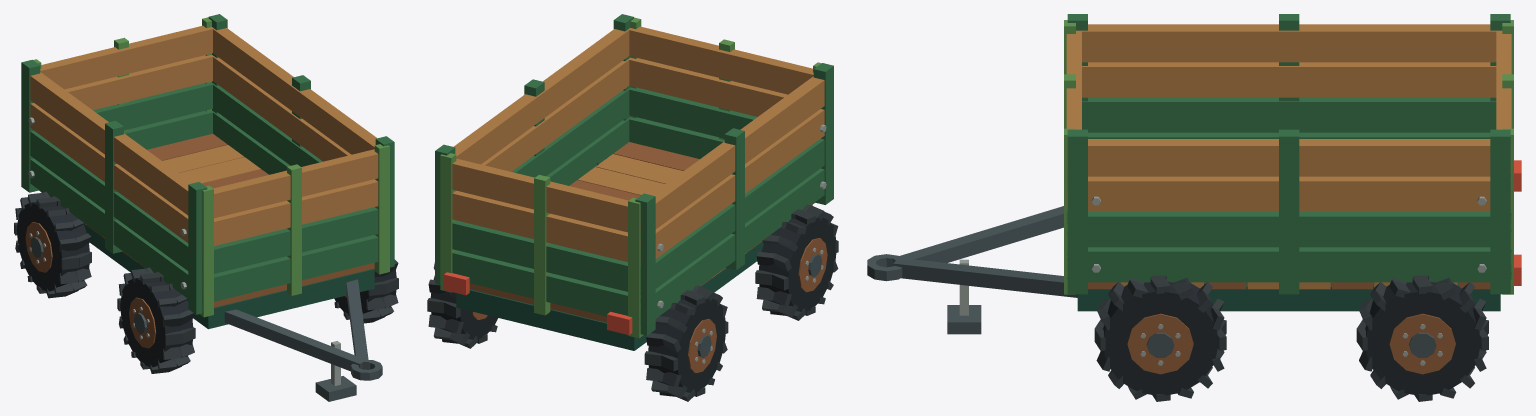
File: farm_trailer.glb
3 renders of one model, left to right at view 1: azimuth 30°, elevation 25°; view 2: azimuth 150°, elevation 25°; view 3: azimuth 270°, elevation 25°, orthographic. The views are drawn at different scales.
Visible parts, largest first — view 1: body__wood2, body__green, body__green2, body__metal, body__green_dark, wheel_-1_0.79__rubber, wheel_-1_-0.76__rubber, wheel_-1_0.79__tread, wheel_-1_-0.76__tread, body__wood, wheel_1_-0.76__tread, wheel_-1_0.79__wood (+3 smaller); view 2: body__wood2, body__green, body__green2, body__green_dark, wheel_-1_-0.76__rubber, wheel_-1_0.79__rubber, wheel_-1_-0.76__tread, wheel_-1_0.79__tread, body__wood, wheel_1_0.79__tread, wheel_1_0.79__rubber, body__red2 (+2 smaller); view 3: body__wood2, body__green, body__metal, wheel_1_0.79__rubber, wheel_1_-0.76__rubber, body__green_dark, wheel_1_0.79__tread, wheel_1_-0.76__tread, wheel_1_-0.76__wood, wheel_1_0.79__wood, body__green2, body__wood (+3 smaller).
Boxes of the visible parts, <box> form: body__wood2: <box>30,25,378,261</box>; body__green: <box>21,14,394,314</box>; body__green2: <box>33,17,389,317</box>; body__metal: <box>224,279,382,401</box>; body__green_dark: <box>41,192,374,329</box>; wheel_-1_0.79__rubber: <box>16,202,89,291</box>; wheel_-1_-0.76__rubber: <box>120,278,193,367</box>; wheel_-1_0.79__tread: <box>14,191,91,298</box>; wheel_-1_-0.76__tread: <box>117,267,195,373</box>; body__wood: <box>39,133,374,307</box>; wheel_1_-0.76__tread: <box>334,259,398,323</box>; wheel_-1_0.79__wood: <box>25,222,52,272</box>; body__wood2: <box>452,26,824,278</box>; body__green: <box>435,14,833,335</box>; body__green2: <box>440,17,821,338</box>; body__green_dark: <box>456,205,812,350</box>; wheel_-1_-0.76__rubber: <box>759,217,836,311</box>; wheel_-1_0.79__rubber: <box>648,298,725,392</box>; wheel_-1_-0.76__tread: <box>755,204,838,320</box>; wheel_-1_0.79__tread: <box>644,285,728,401</box>; body__wood: <box>469,142,814,322</box>; wheel_1_0.79__tread: <box>427,262,497,348</box>; wheel_1_0.79__rubber: <box>430,275,497,339</box>; body__red2: <box>443,272,632,334</box>; body__wood2: <box>1066,24,1511,289</box>; body__green: <box>1066,14,1511,294</box>; body__metal: <box>867,206,1077,334</box>; wheel_1_0.79__rubber: <box>1365,281,1480,395</box>; wheel_1_-0.76__rubber: <box>1103,281,1218,395</box>; body__green_dark: <box>1077,282,1500,311</box>; wheel_1_0.79__tread: <box>1356,275,1488,401</box>; wheel_1_-0.76__tread: <box>1094,275,1226,401</box>; wheel_1_-0.76__wood: <box>1127,313,1193,374</box>; wheel_1_0.79__wood: <box>1389,313,1455,374</box>; body__green2: <box>1064,20,1513,294</box>; body__wood: <box>1088,282,1490,289</box>.
Size of the model in its own units: 2.06 by 1.66 by 3.87.
